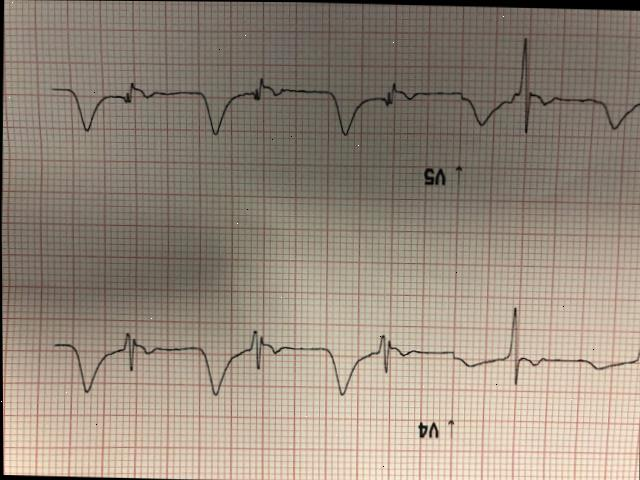Lead_V4: (41, 276, 640, 457)
Lead_V5: (36, 11, 640, 207)
